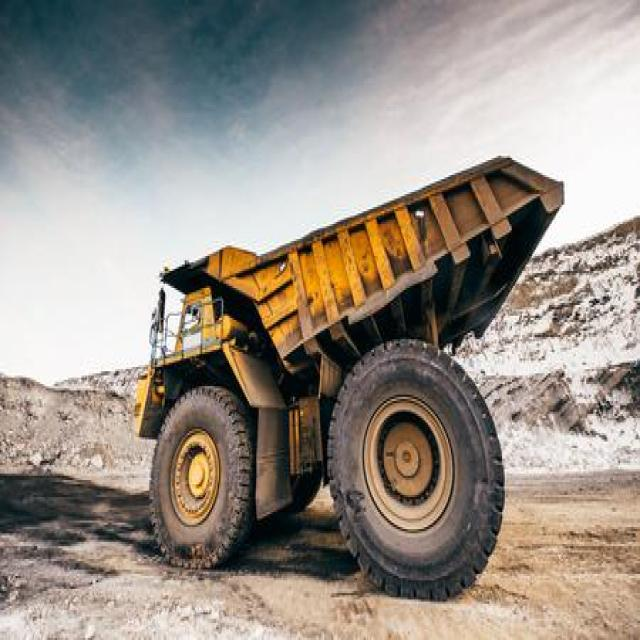Camion volquete: (125, 145, 570, 610)
